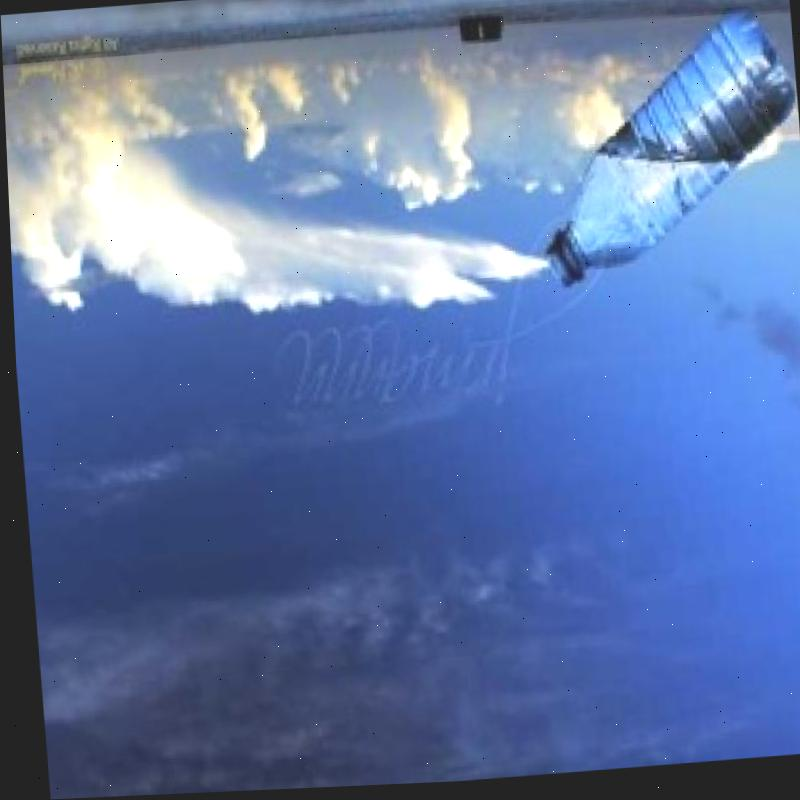botella: (524, 9, 800, 293)
